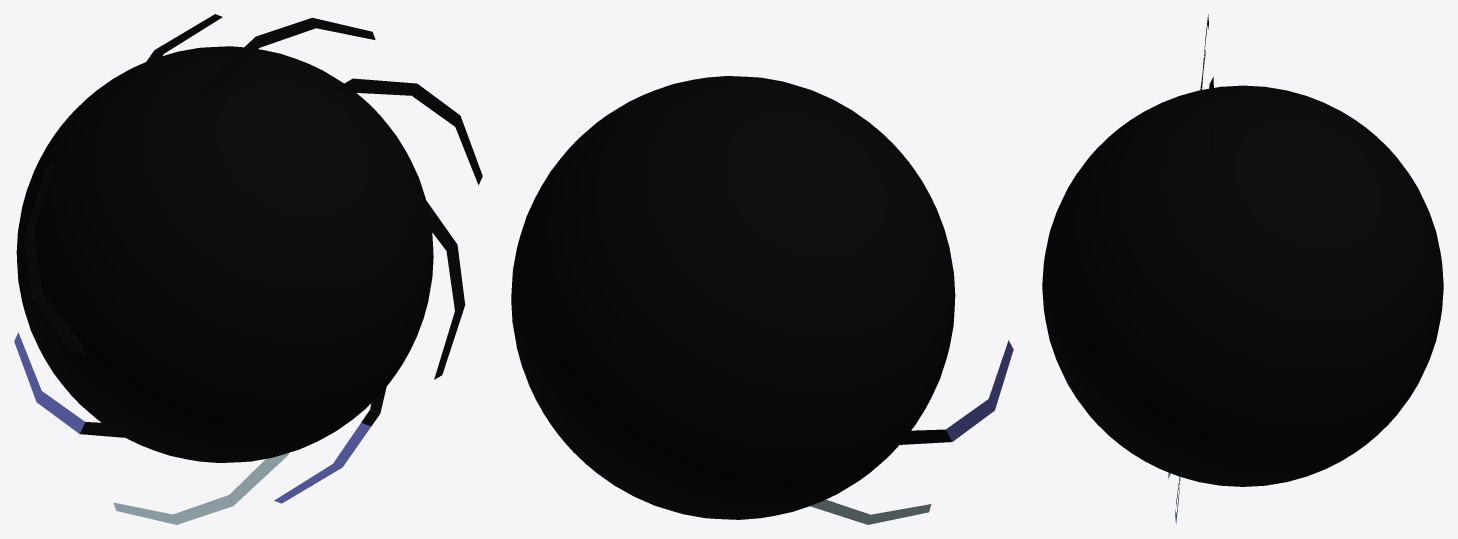
3 renders of one model, left to right at view 1: azimuth 30°, elevation 25°; view 2: azimuth 150°, elevation 25°; view 3: azimuth 270°, elevation 25°, orthographic. The views are drawn at different scales.
Visible parts, largest first — view 1: root, node_id5, node_id48; view 2: root, node_id48, node_id5; view 3: root.
Part boxes in pixels (x1,y1,x2,y2): root: (16, 46, 433, 462); node_id5: (24, 17, 465, 524); node_id48: (14, 14, 482, 503); root: (511, 76, 955, 519); node_id48: (900, 340, 1013, 444); node_id5: (810, 499, 931, 524); root: (1042, 85, 1443, 486).
Size of the model in its own units: 0.6128 by 0.6115 by 0.4728.
5 materials, 5 textured.
